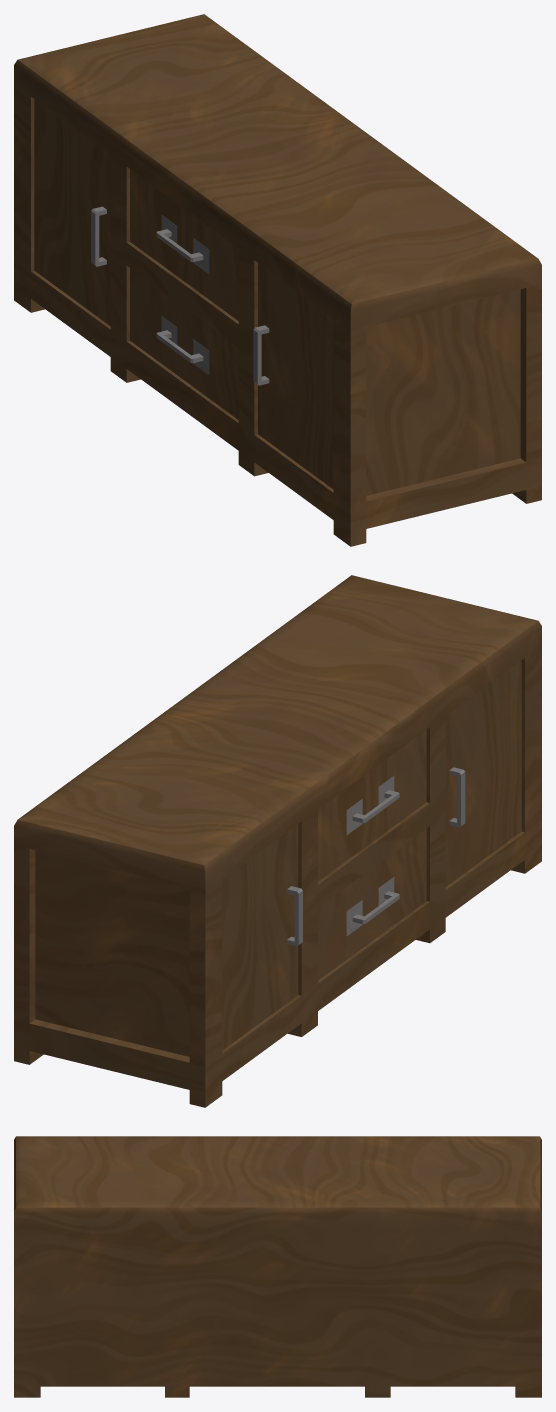
Rendered from House_Cabinet_v01.fbx.
The picture shows the model from 3 angles, top to bottom: view 1: azimuth 30°, elevation 25°; view 2: azimuth 150°, elevation 25°; view 3: azimuth 270°, elevation 25°; orthographic projection. The views are drawn at different scales.
Parts seen in each view (by area): view 1: Cabinet1; view 2: Cabinet1; view 3: Cabinet1.
Boxes of the visible parts, x1,y1,x2,y2 form: Cabinet1: [14, 14, 541, 546]; Cabinet1: [14, 575, 541, 1107]; Cabinet1: [14, 1136, 541, 1397].
Size of the model in its own units: 59.6 by 174 by 69.33.
Materials: 2 (2 with a texture image).
